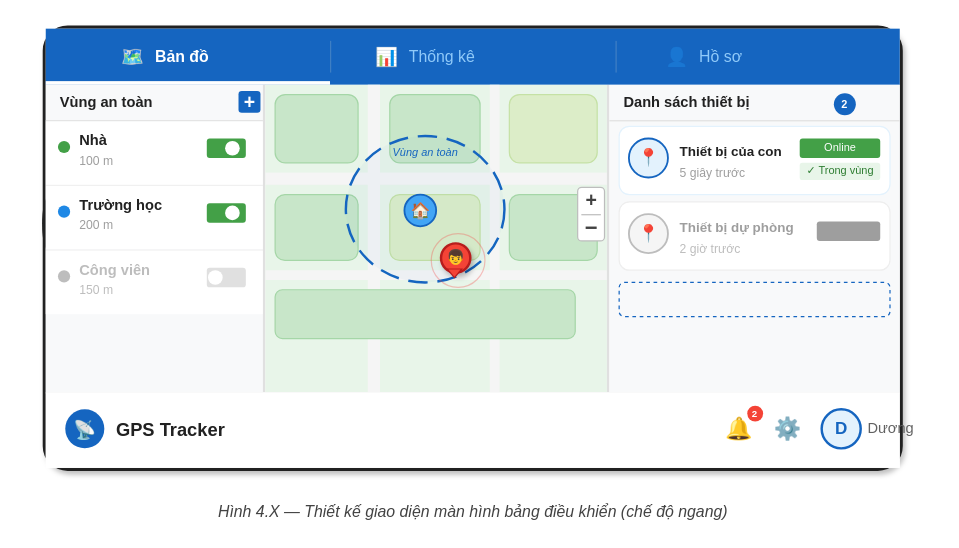
Some shapes in this 959 by 548 pixel diagram are drawn without their labels. Here are the shapes that lost their labels. From the top down, the centre of each, then its label:
At (848,230): "Offline".
At (754,299): "+ Thêm thiết bị".
